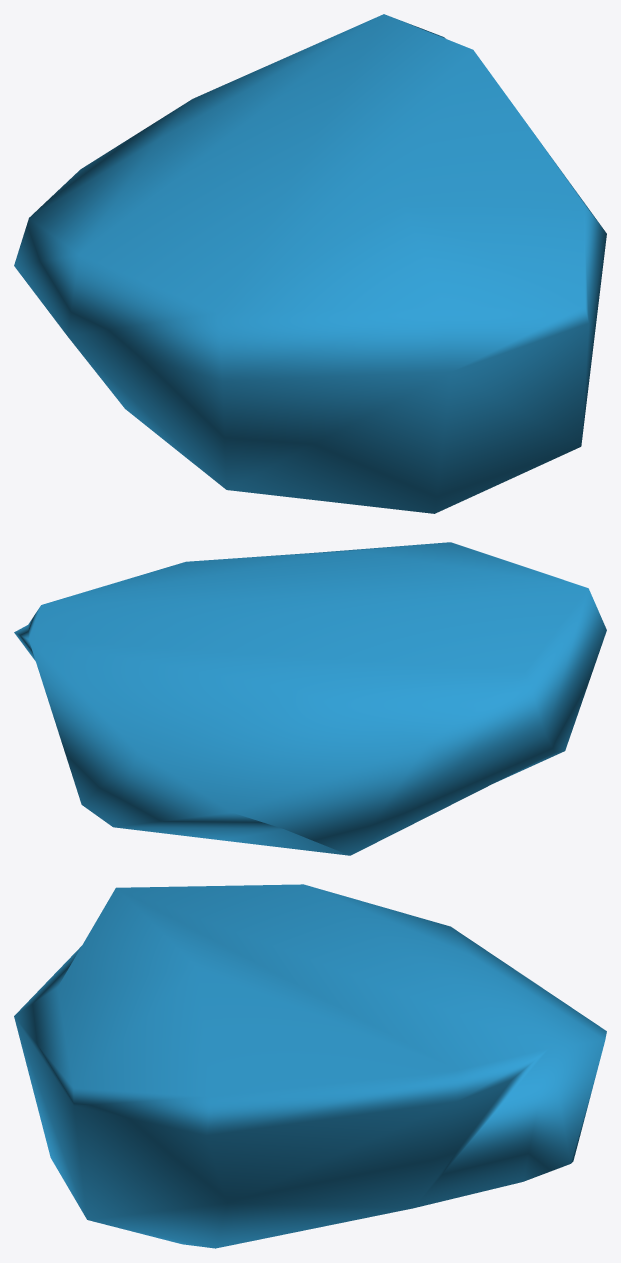
Rendered from Rock_S_04_Lod1.fbx.
3 renders of one model, top to bottom at view 1: azimuth 30°, elevation 25°; view 2: azimuth 150°, elevation 25°; view 3: azimuth 270°, elevation 25°, orthographic. The views are drawn at different scales.
Visible parts, largest first — view 1: Rock_S_04_Lod1; view 2: Rock_S_04_Lod1; view 3: Rock_S_04_Lod1.
Part boxes in pixels (left/top/right/bottom): Rock_S_04_Lod1: left=14, top=14, right=606, bottom=513; Rock_S_04_Lod1: left=14, top=542, right=606, bottom=855; Rock_S_04_Lod1: left=14, top=884, right=606, bottom=1248.
Size of the model in its own units: 300 by 157 by 339.
